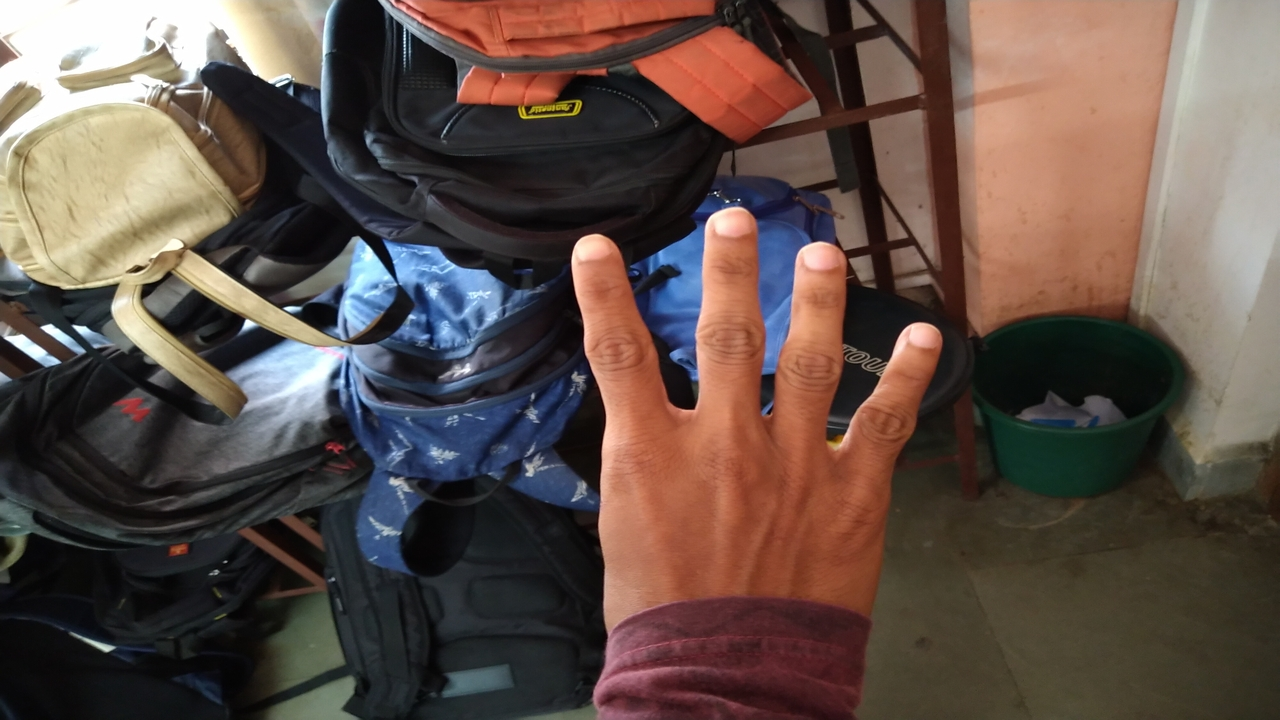fingertip: (564, 226, 628, 290), (790, 234, 854, 294), (890, 316, 952, 376), (702, 200, 760, 262)
